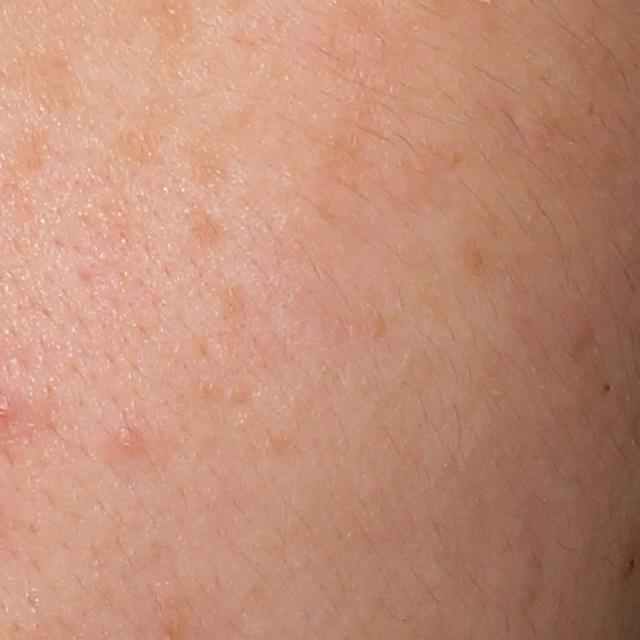papule: (116, 426, 137, 451)
